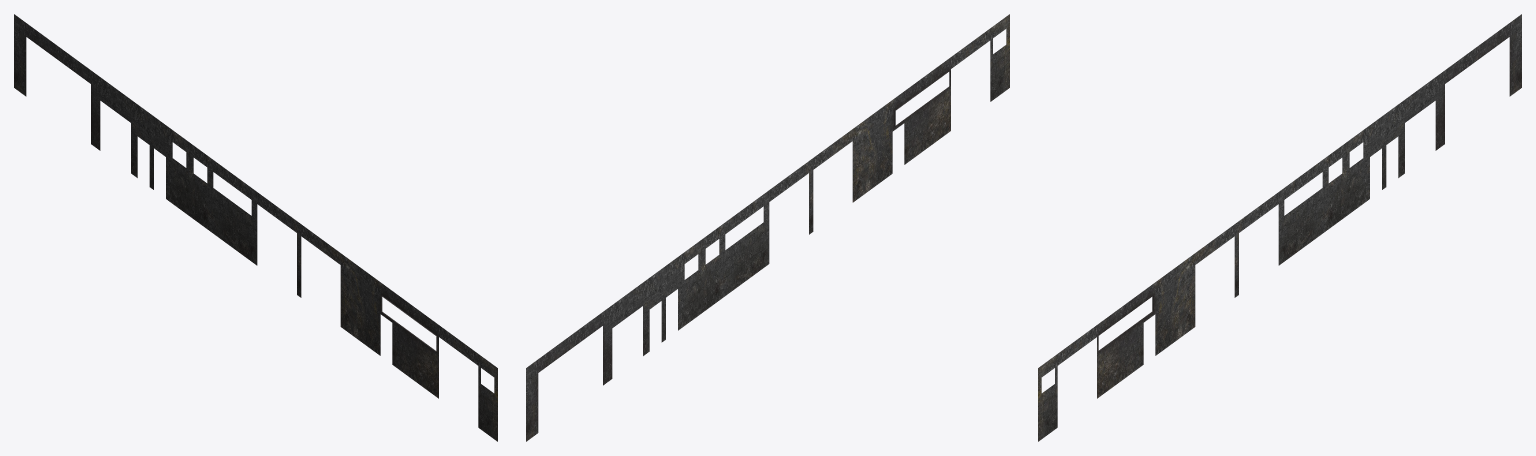
Rendered from Wall_06.FBX.
3 views of the same model, side by side, from view 1: azimuth 30°, elevation 25°; view 2: azimuth 150°, elevation 25°; view 3: azimuth 330°, elevation 25° (orthographic).
Parts seen in each view (by area): view 1: Wall_06; view 2: Wall_06; view 3: Wall_06.
Boxes of the visible parts, left/top/right/bottom form: Wall_06: left=14, top=14, right=497, bottom=441; Wall_06: left=526, top=14, right=1009, bottom=441; Wall_06: left=1038, top=14, right=1521, bottom=441.
Size of the model in its own units: 10 by 612 by 7265.
